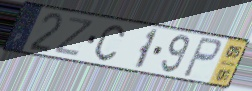1: (134, 27, 161, 72)
2: (27, 11, 64, 54)
9: (158, 34, 191, 74)
C: (93, 23, 126, 63)
P: (180, 35, 223, 80)
Z: (51, 15, 97, 59)
